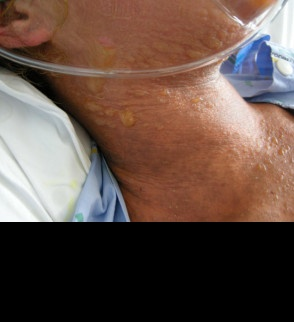SJS-TEN: (37, 0, 246, 150), (229, 117, 294, 223)
